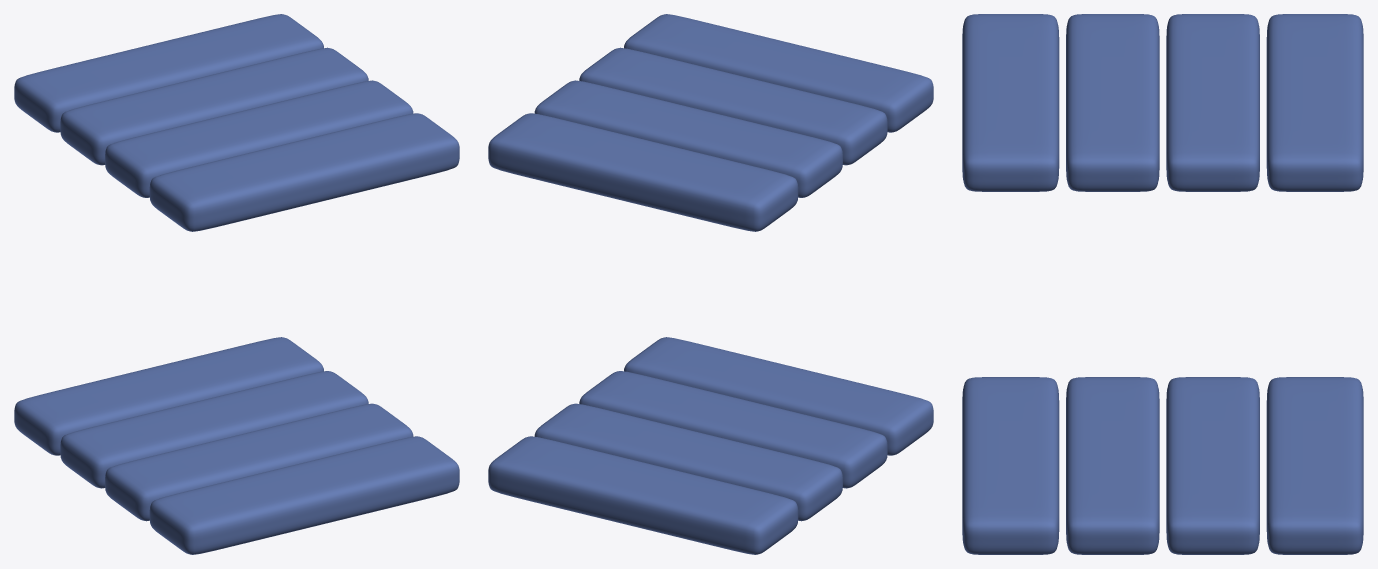
Rendered from Shelves.fbx.
3 renders of one model, left to right at view 1: azimuth 30°, elevation 25°; view 2: azimuth 150°, elevation 25°; view 3: azimuth 270°, elevation 25°, orthographic. The views are drawn at different scales.
Parts seen in each view (by area): view 1: Shelf; view 2: Shelf; view 3: Shelf.
Boxes of the visible parts, x1,y1,x2,y2 form: Shelf: [14, 14, 459, 554]; Shelf: [488, 14, 933, 554]; Shelf: [962, 14, 1363, 554].
Bounding box in the file's own units: 296 × 364 × 332.
